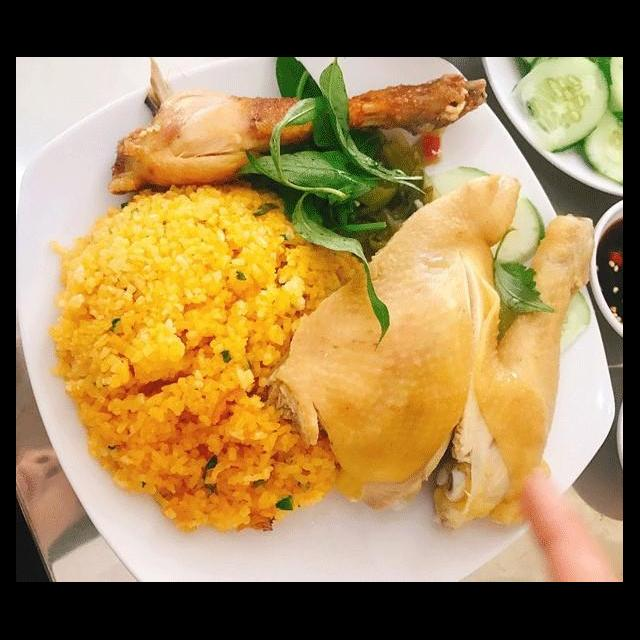com: (38, 174, 380, 540)
rau ram: (230, 58, 433, 218), (288, 185, 397, 352), (486, 225, 558, 318)
thit ga: (267, 168, 524, 518), (426, 211, 602, 534), (104, 58, 494, 202)
